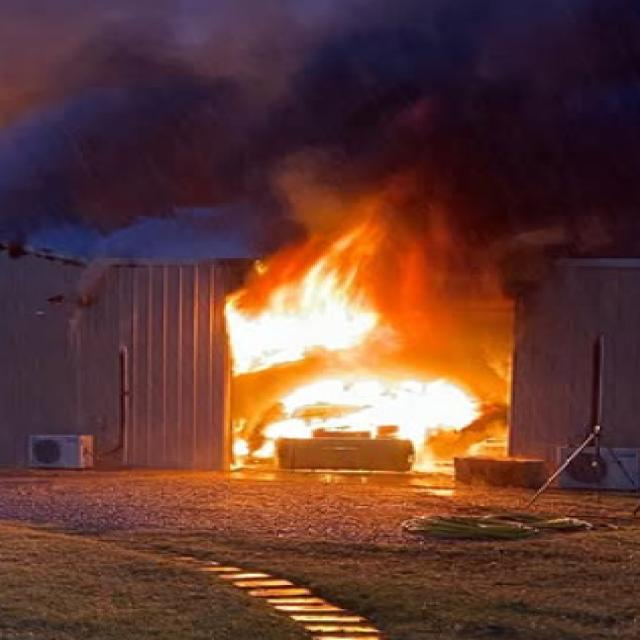fire: (225, 260, 376, 376), (263, 375, 481, 439), (410, 439, 455, 474)
